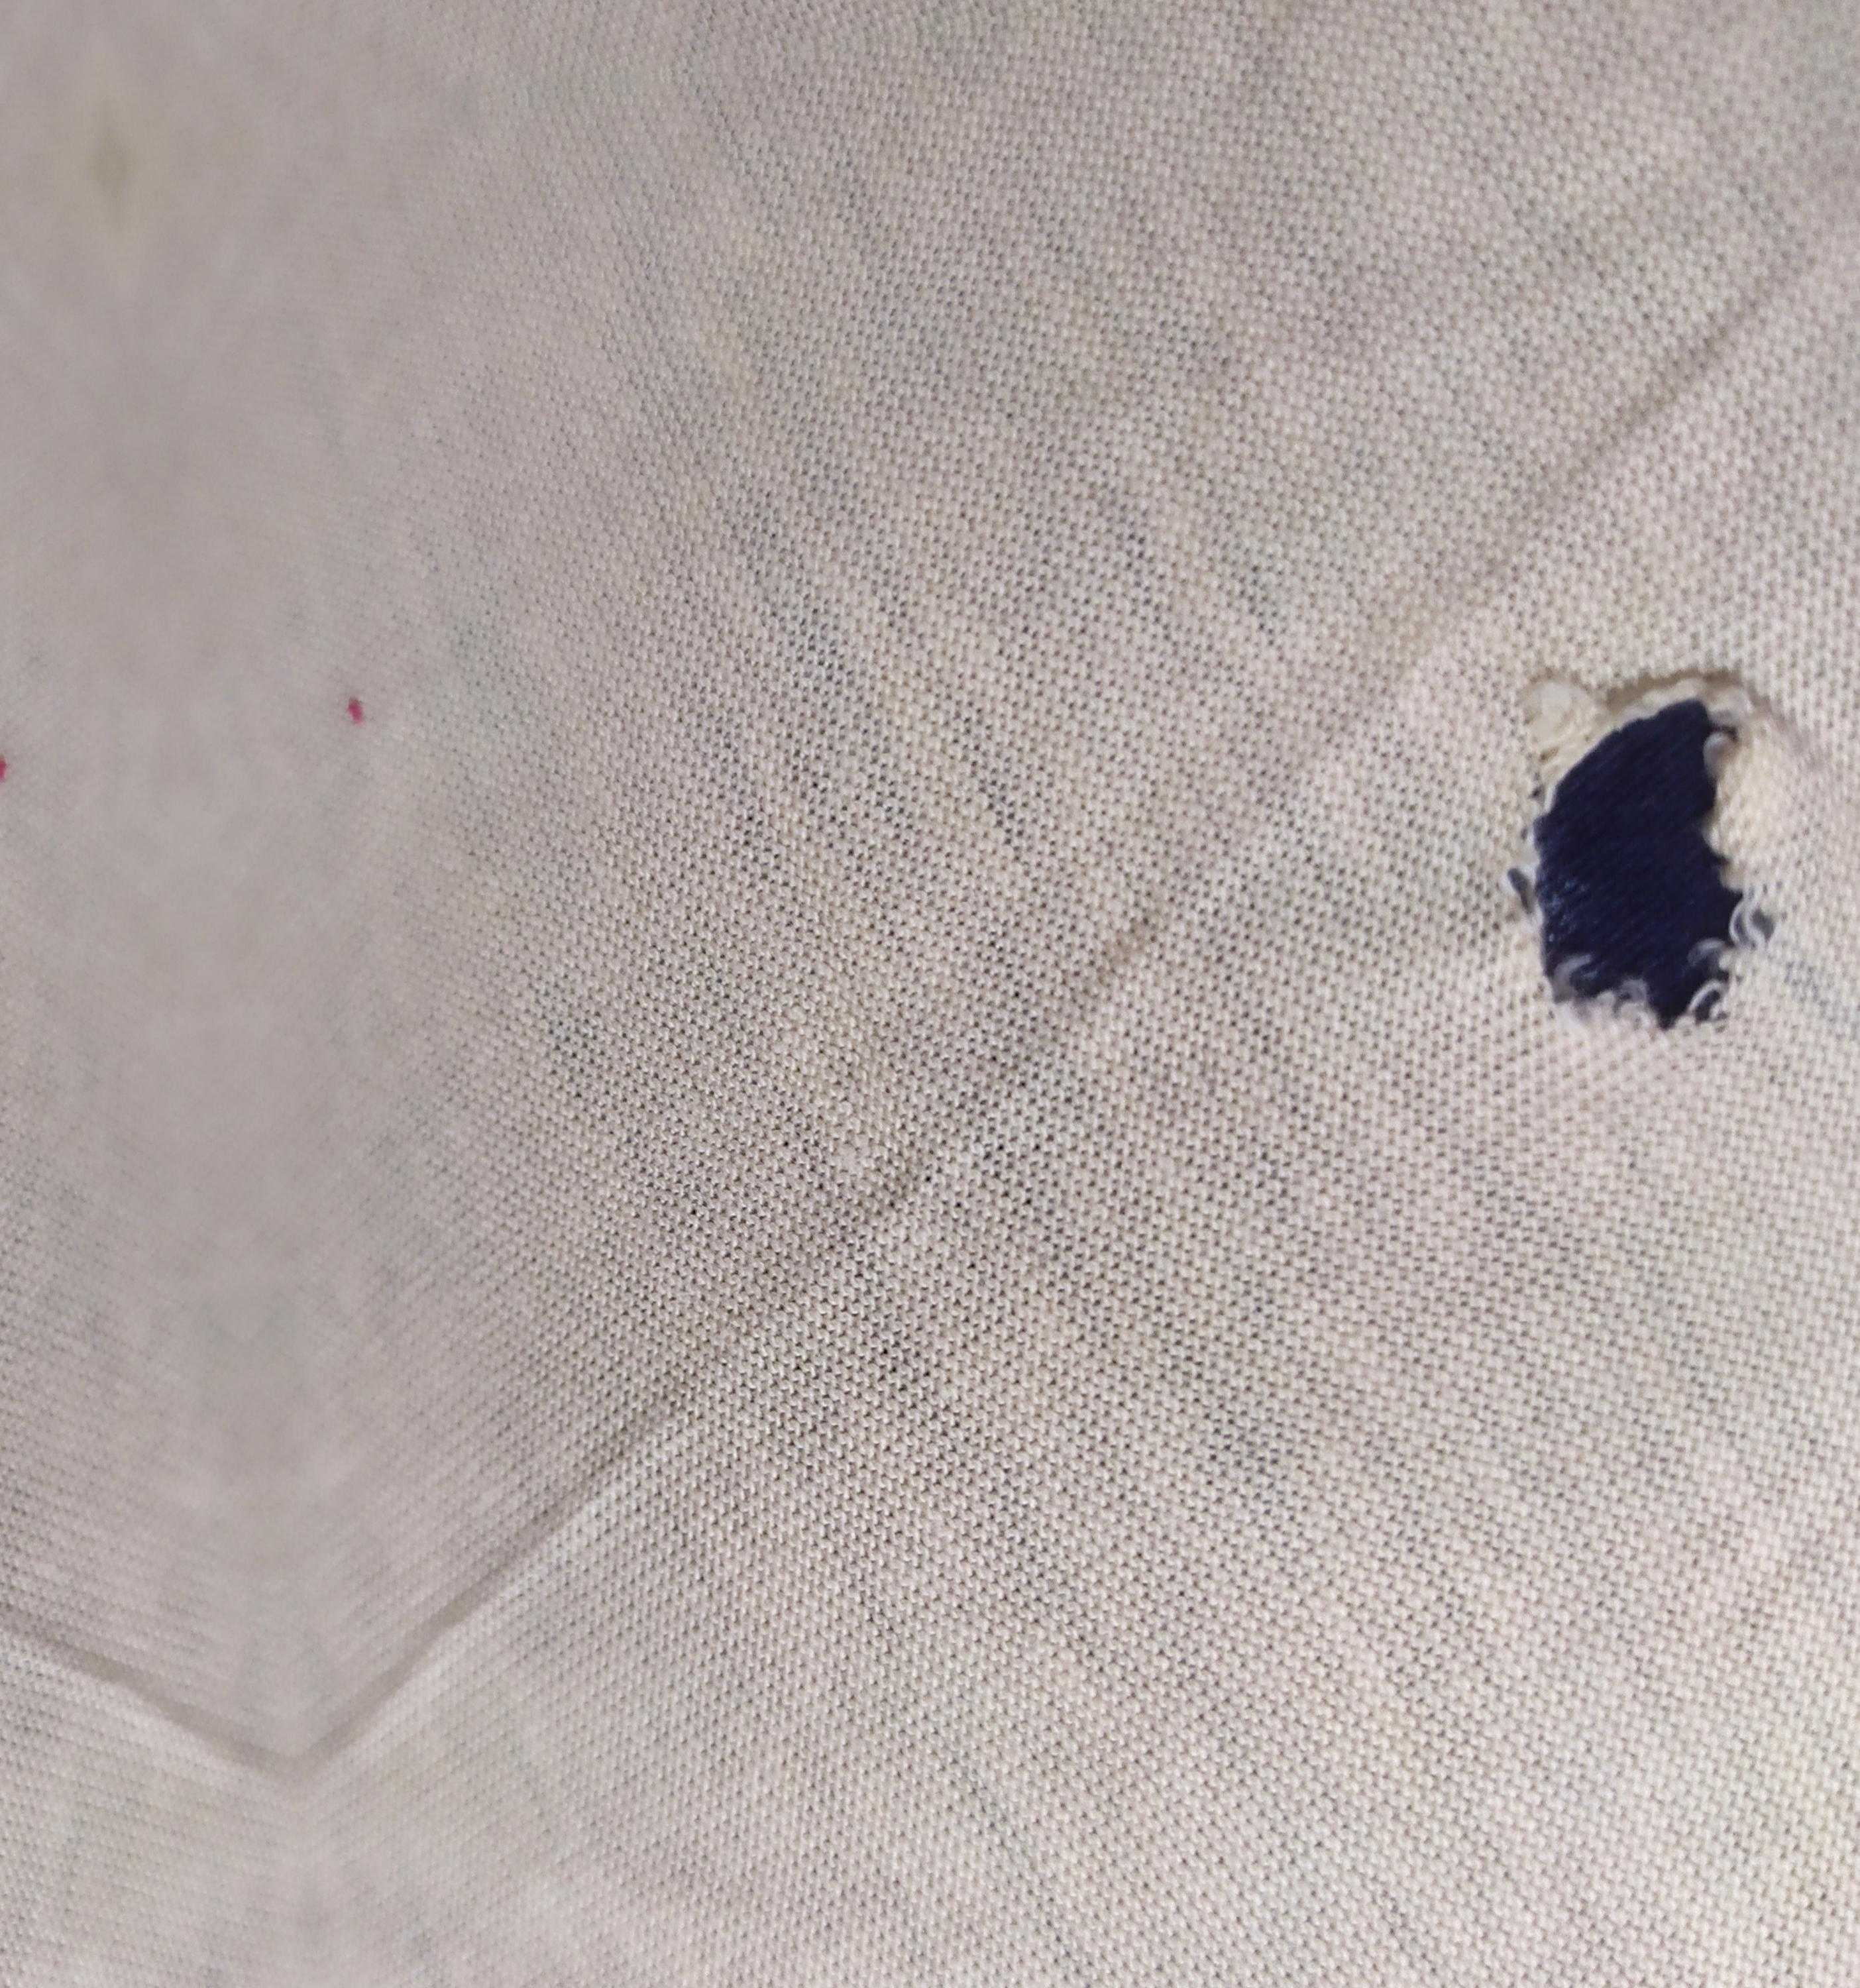hole: (1475, 640, 1794, 1042)
